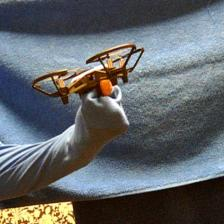drone: (32, 44, 145, 107)
